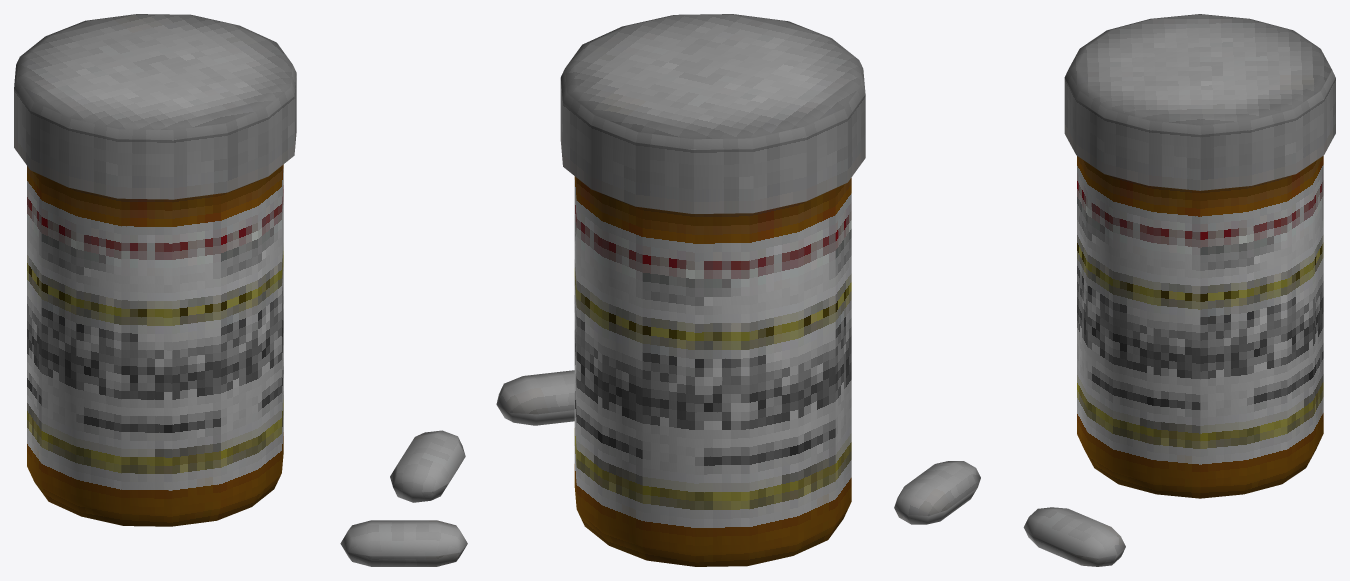
The model's file is pills_bottle_1_1.obj.
The picture shows the model from 3 angles, left to right: view 1: azimuth 30°, elevation 25°; view 2: azimuth 150°, elevation 25°; view 3: azimuth 270°, elevation 25°; orthographic projection. The views are drawn at different scales.
Visible parts, largest first — view 1: pills_bottle_1_1; view 2: pills_bottle_1_1; view 3: pills_bottle_1_1.
Boxes of the visible parts, bbox=[...] form: pills_bottle_1_1: bbox=[14, 14, 467, 566]; pills_bottle_1_1: bbox=[496, 14, 865, 566]; pills_bottle_1_1: bbox=[894, 14, 1335, 566].
Bounding box in the file's own units: 4.03 × 4.27 × 4.33.
Materials: 1 (1 with a texture image).
